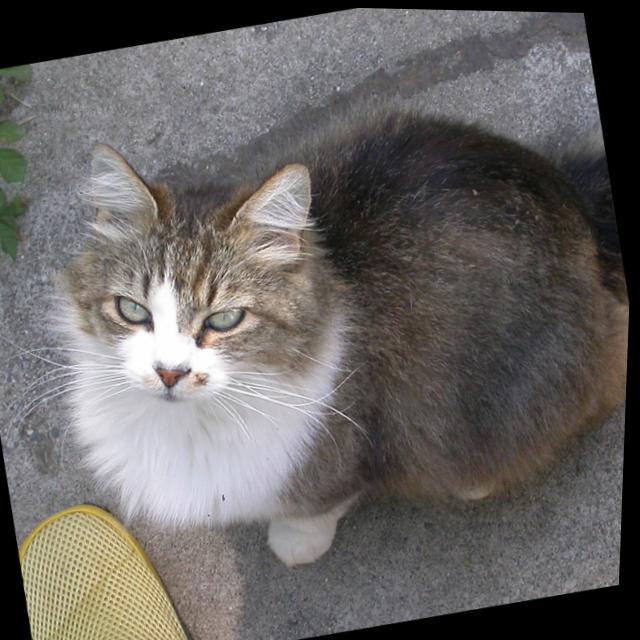animals: (76, 105, 339, 395)
